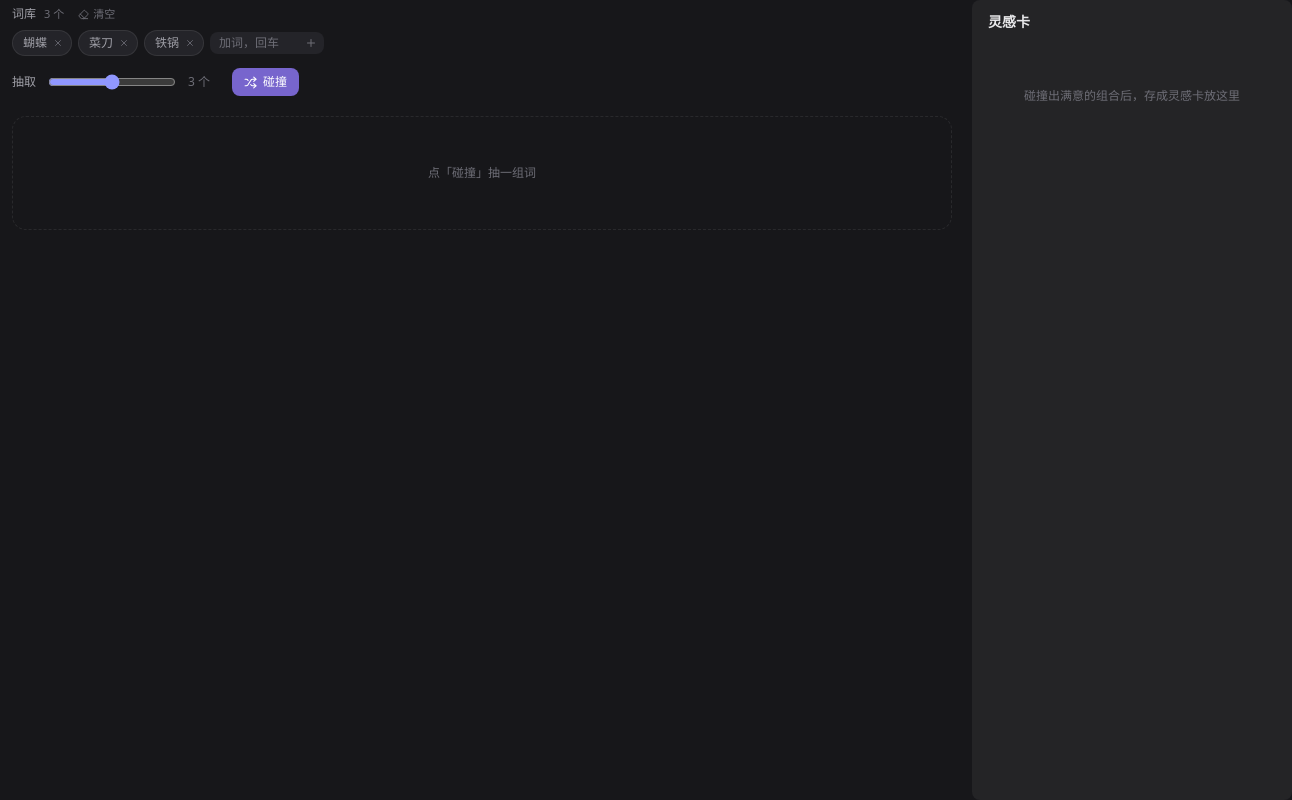
it: BumpWorkspace › chip 的 × 移除单词后预览计数随之更新
Expected: the text "蝴蝶" is shown, [12, 30, 72, 56]
In the field with placeholder "加词，回车": {"x": 259, "y": 43} [219, 35, 299, 51], type "雨夜 邮差 菜刀"
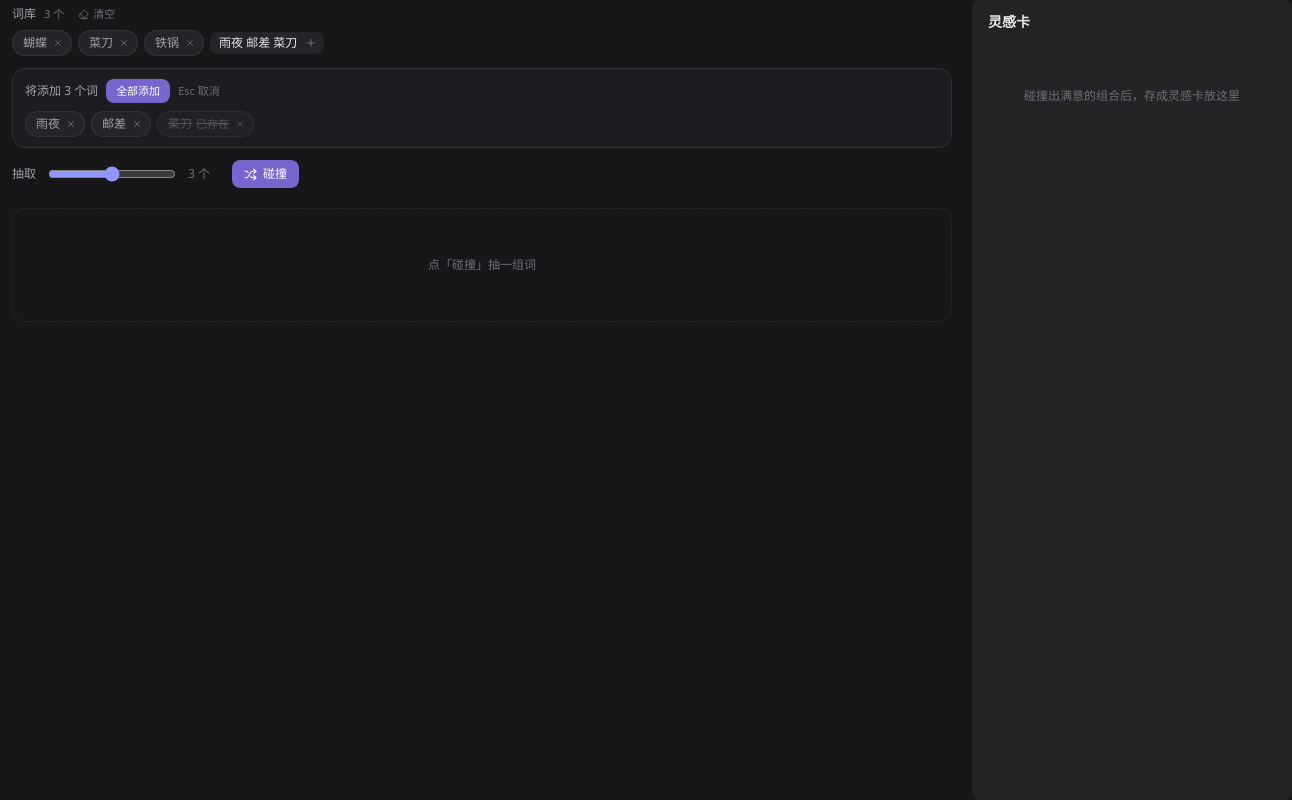
Click the button titled "移除「邮差」": {"x": 137, "y": 124} [130, 117, 144, 131]
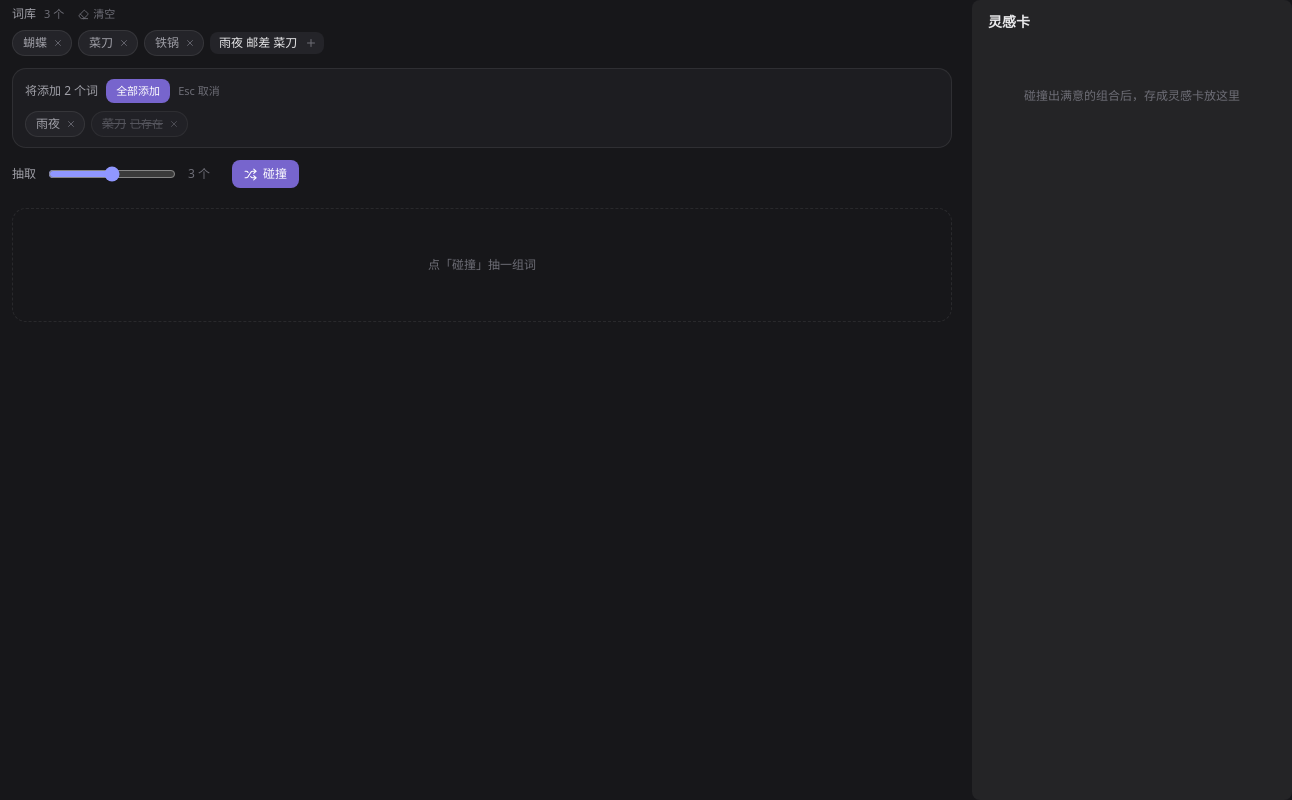
Expected: the text "将添加 2 个词" is shown, [25, 83, 98, 99]
